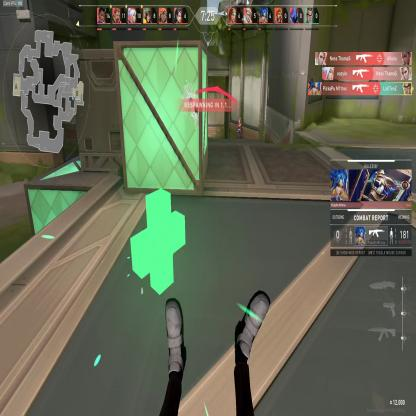enemy: (236, 116, 242, 139)
